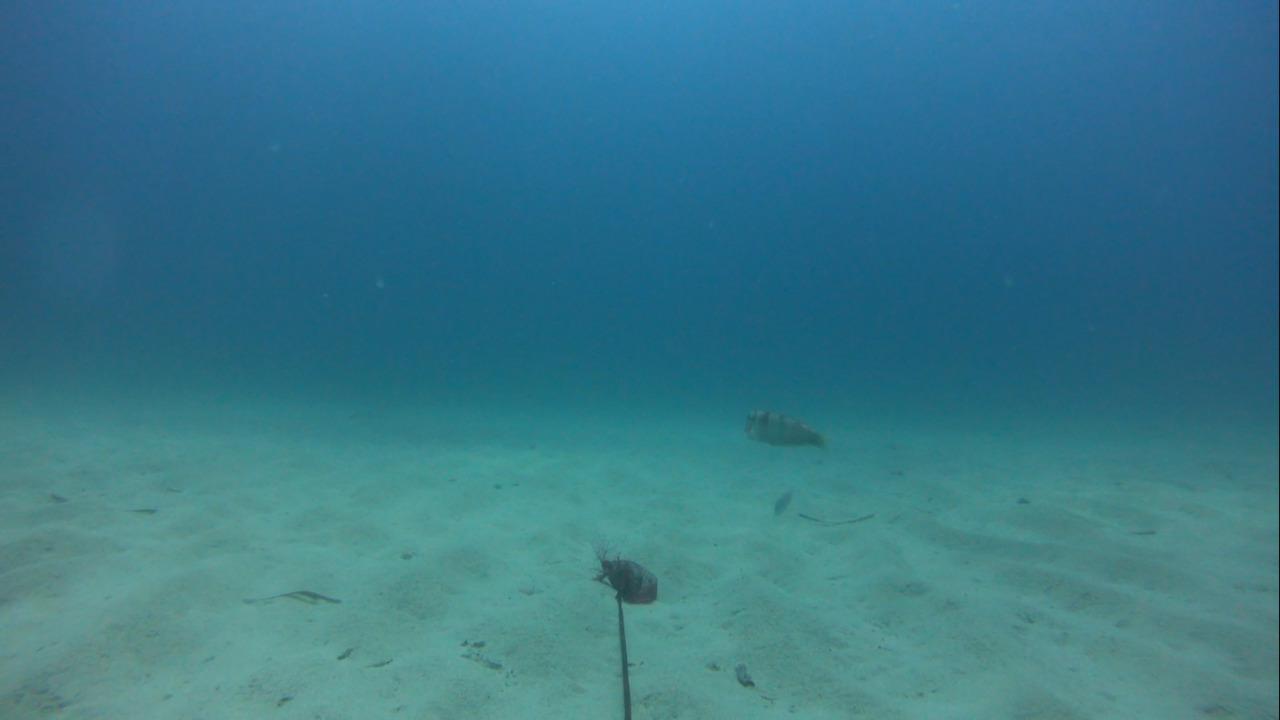raor: (734, 402, 837, 453)
